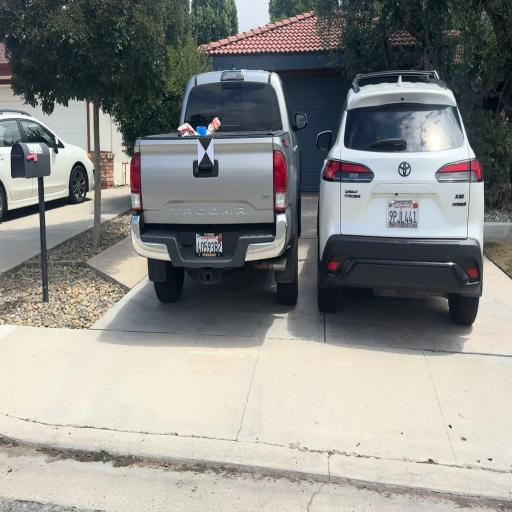target: (198, 138, 214, 166)
